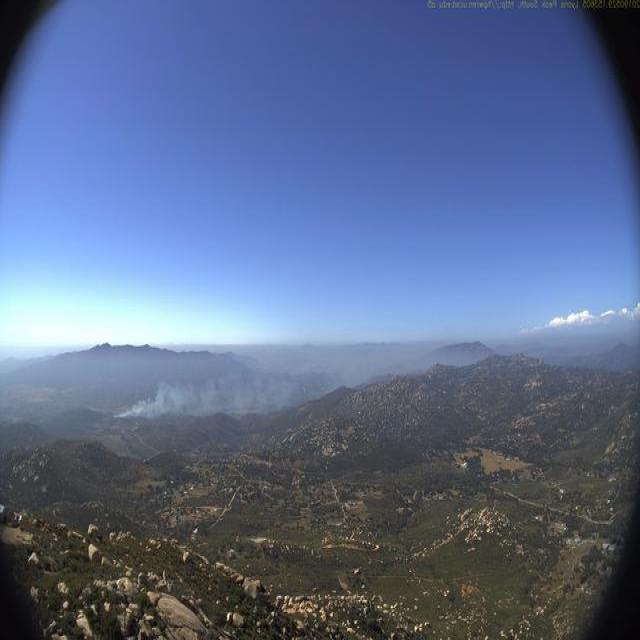smoke: (115, 337, 360, 423)
